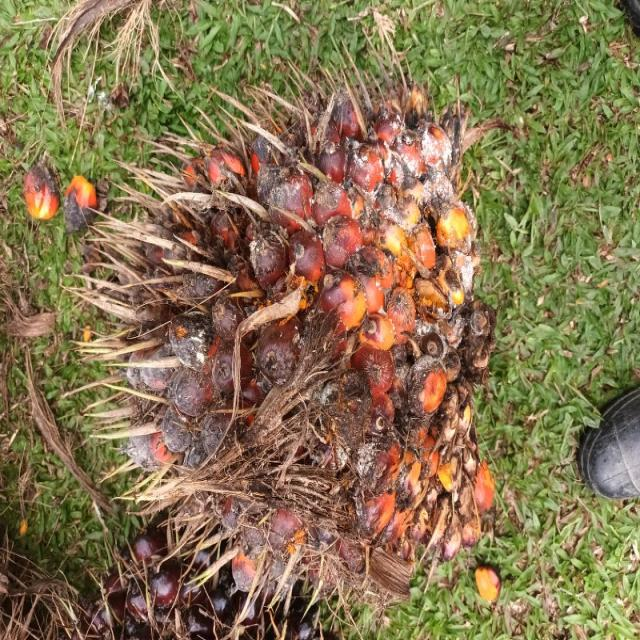fraksi 1: (19, 91, 414, 640)
